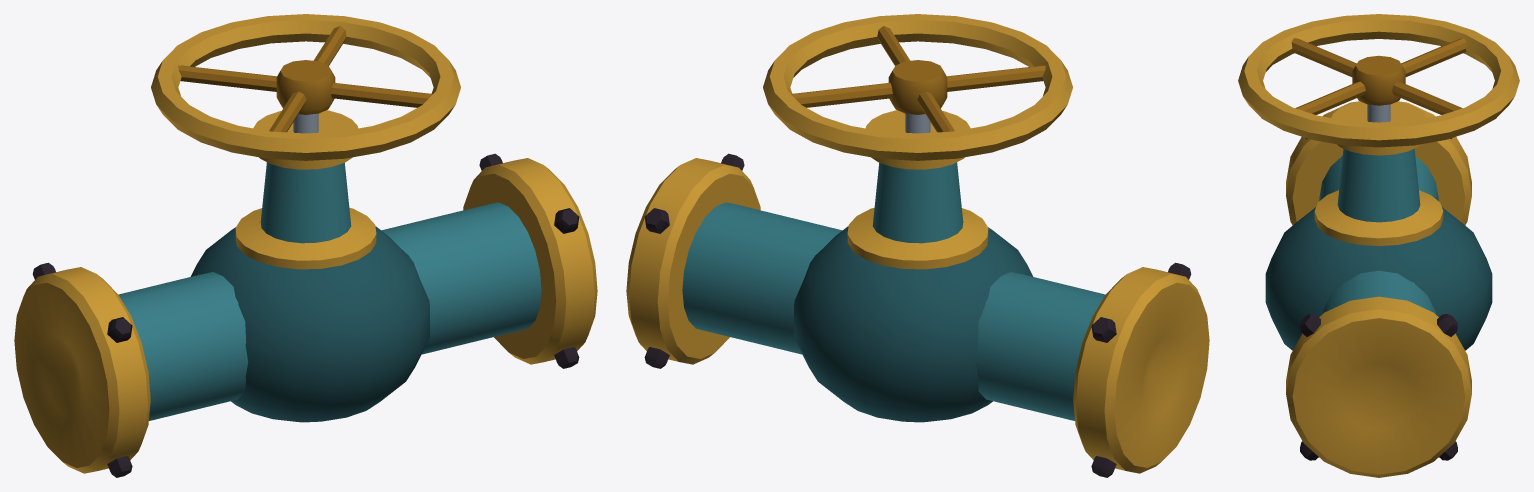
Rendered from Valve_08.glb.
3 views of the same model, side by side, from view 1: azimuth 30°, elevation 25°; view 2: azimuth 150°, elevation 25°; view 3: azimuth 270°, elevation 25° (orthographic). The views are drawn at different scales.
Parts seen in each view (by area): view 1: Valve_08; view 2: Valve_08; view 3: Valve_08.
Boxes of the visible parts, x1,y1,x2,y2 form: Valve_08: (14, 14, 597, 477); Valve_08: (626, 14, 1209, 477); Valve_08: (1238, 14, 1519, 477).
Bounding box in the file's own units: 3.07 × 2.04 × 1.69.
